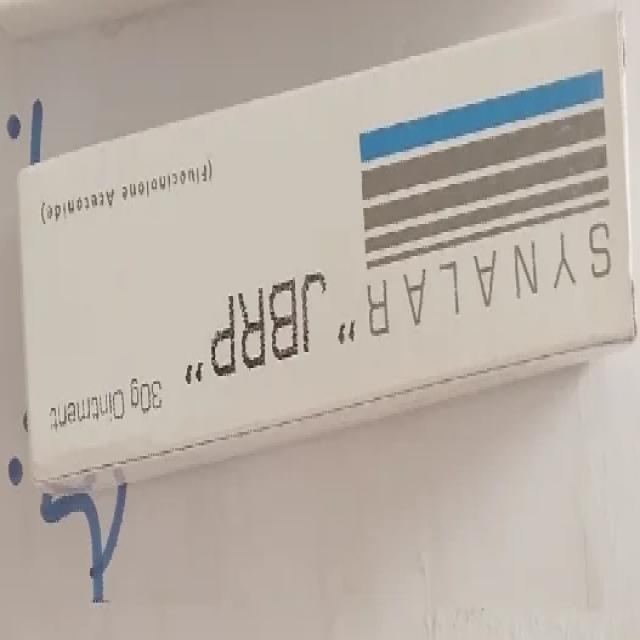drug-name: (181, 264, 358, 390)
